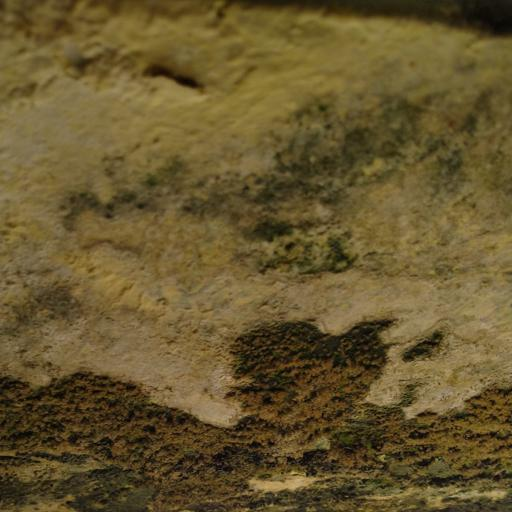algae: (0, 231, 512, 512)
